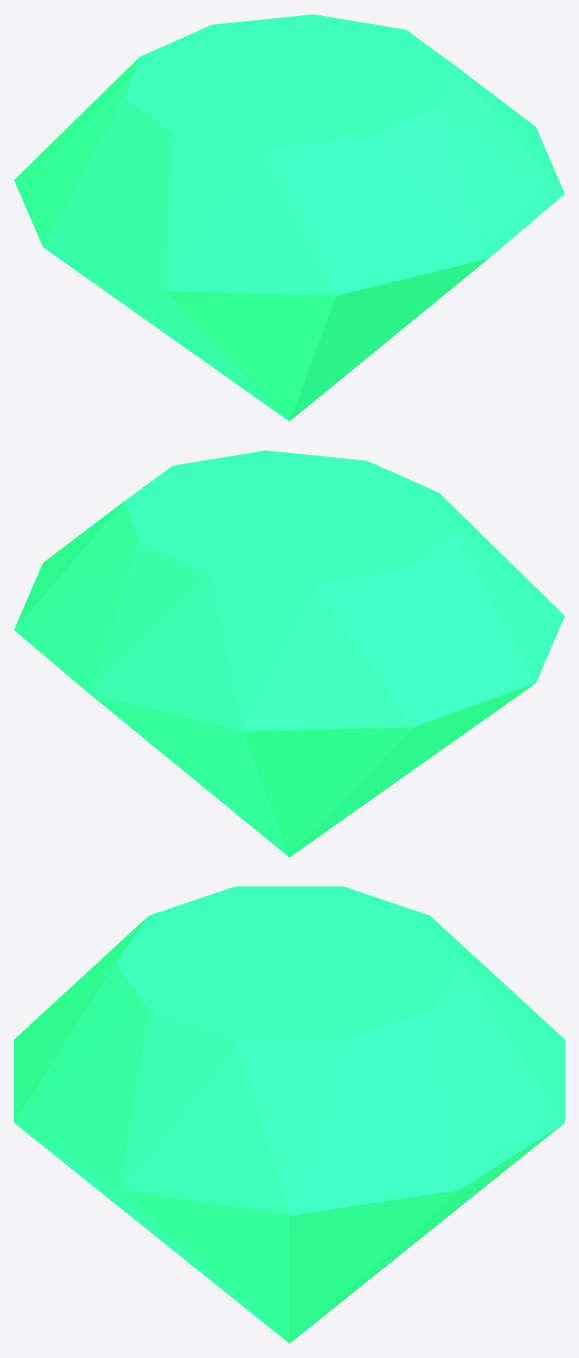
Rendered from gem_emerald_flawless.glb.
3 renders of one model, top to bottom at view 1: azimuth 30°, elevation 25°; view 2: azimuth 150°, elevation 25°; view 3: azimuth 270°, elevation 25°, orthographic. The views are drawn at different scales.
Parts seen in each view (by area): view 1: gem_emerald_4; view 2: gem_emerald_4; view 3: gem_emerald_4.
Part boxes in pixels (box(x1,y1,x2,y2)): gem_emerald_4: box(14, 14, 564, 421); gem_emerald_4: box(14, 450, 564, 857); gem_emerald_4: box(14, 886, 564, 1343).
Bounding box in the file's own units: 0.11 × 0.0725 × 0.0951.
